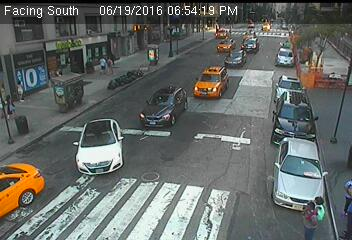neg: (141, 103, 169, 141), (33, 181, 60, 217), (249, 52, 275, 88), (295, 149, 320, 183), (53, 121, 78, 154), (78, 73, 102, 105), (185, 142, 209, 174), (197, 78, 220, 108), (325, 72, 348, 102), (235, 122, 257, 151), (108, 138, 128, 165), (176, 193, 195, 219), (146, 44, 165, 70), (49, 60, 68, 86), (95, 198, 114, 223), (295, 36, 313, 60), (201, 36, 217, 57), (121, 71, 136, 91), (293, 103, 306, 121)
pos: (295, 200, 321, 234)
